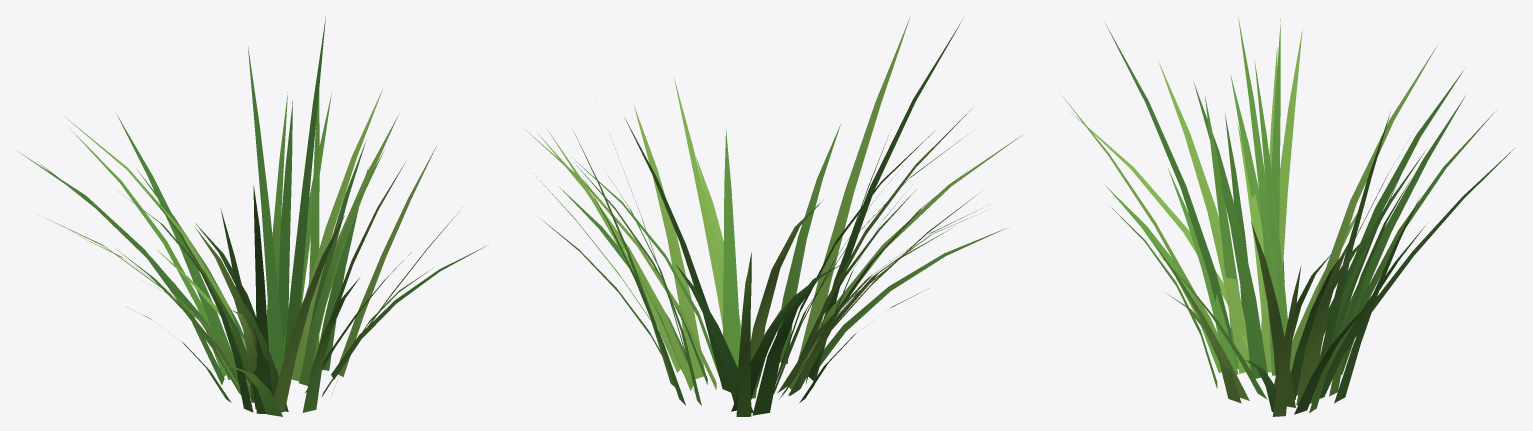
Rendered from grass-tuft-b.glb.
3 views of the same model, side by side, from view 1: azimuth 30°, elevation 25°; view 2: azimuth 150°, elevation 25°; view 3: azimuth 270°, elevation 25° (orthographic). The views are drawn at different scales.
Parts seen in each view (by area): view 1: grass-tuft-b; view 2: grass-tuft-b; view 3: grass-tuft-b.
Part boxes in pixels (bbox=[...]): grass-tuft-b: bbox=[17, 16, 485, 416]; grass-tuft-b: bbox=[522, 17, 1023, 416]; grass-tuft-b: bbox=[1060, 15, 1514, 416].
Bounding box in the file's own units: 0.3621 × 0.254 × 0.3242.
